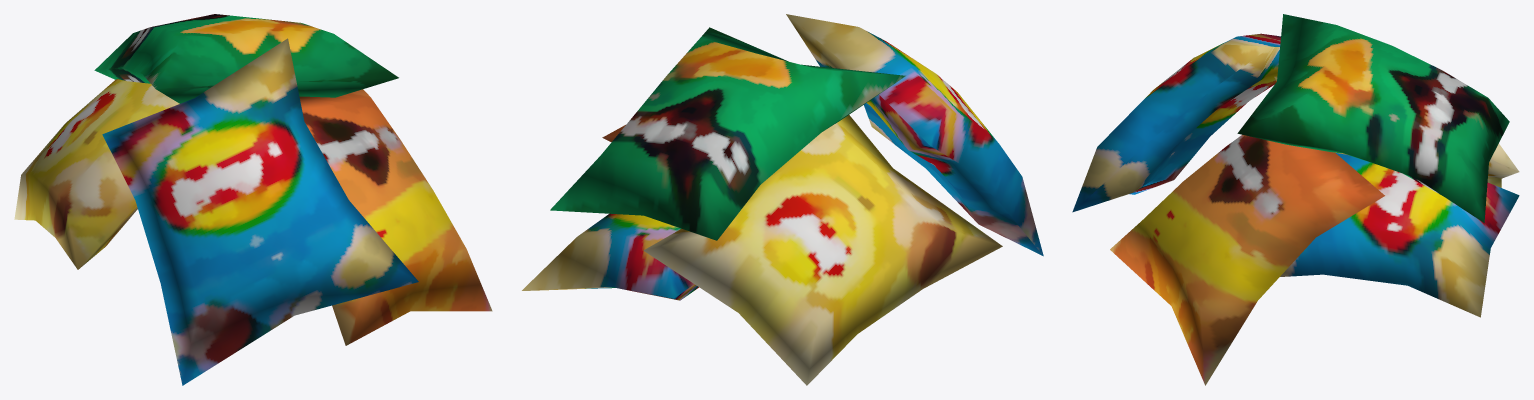
The model's file is Paquets_Food.fbx.
The picture shows the model from 3 angles, left to right: view 1: azimuth 30°, elevation 25°; view 2: azimuth 150°, elevation 25°; view 3: azimuth 270°, elevation 25°; orthographic projection. The views are drawn at different scales.
Parts seen in each view (by area): view 1: Object032; view 2: Object032; view 3: Object032.
Boxes of the visible parts, left/top/right/bottom form: Object032: left=14, top=14, right=492, bottom=385; Object032: left=522, top=14, right=1043, bottom=385; Object032: left=1072, top=14, right=1519, bottom=385.
Bounding box in the file's own units: 42.44 × 30.67 × 47.17.
